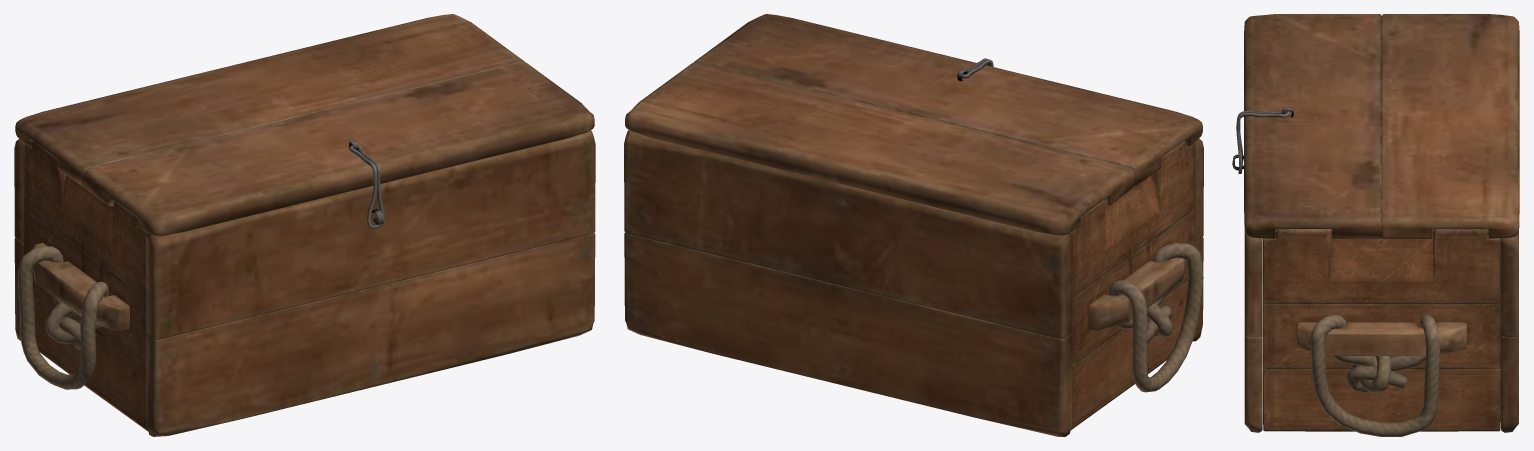
File: crate.glb
The picture shows the model from 3 angles, left to right: view 1: azimuth 30°, elevation 25°; view 2: azimuth 150°, elevation 25°; view 3: azimuth 270°, elevation 25°; orthographic projection. The views are drawn at different scales.
Parts seen in each view (by area): view 1: wooden_crate_01, wooden_crate_01_lid, wooden_crate_01_latch; view 2: wooden_crate_01, wooden_crate_01_lid; view 3: wooden_crate_01_lid, wooden_crate_01, wooden_crate_01_latch.
Part boxes in pixels (x1,y1,x2,y2): wooden_crate_01: [14, 130, 595, 436]; wooden_crate_01_lid: [15, 14, 594, 236]; wooden_crate_01_latch: [349, 145, 384, 228]; wooden_crate_01: [624, 130, 1203, 436]; wooden_crate_01_lid: [625, 14, 1202, 235]; wooden_crate_01_lid: [1244, 14, 1519, 238]; wooden_crate_01: [1232, 154, 1518, 436]; wooden_crate_01_latch: [1236, 111, 1289, 173].
Size of the model in its own units: 0.8253 by 0.3495 by 0.409.
Materials: 1 (1 with a texture image).
